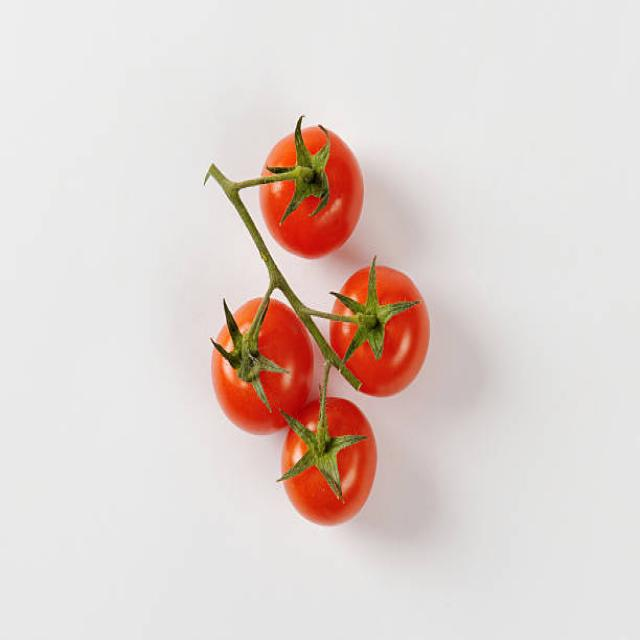Tomato: (206, 292, 316, 438), (257, 120, 367, 265), (326, 262, 433, 403), (280, 396, 380, 530)
